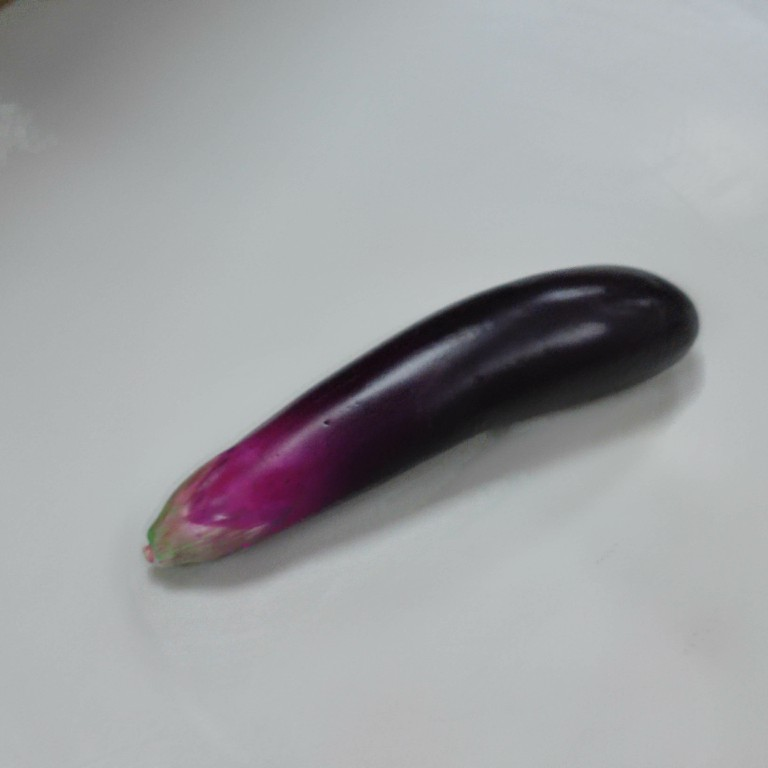fruit_eggplant: (138, 256, 704, 574)
